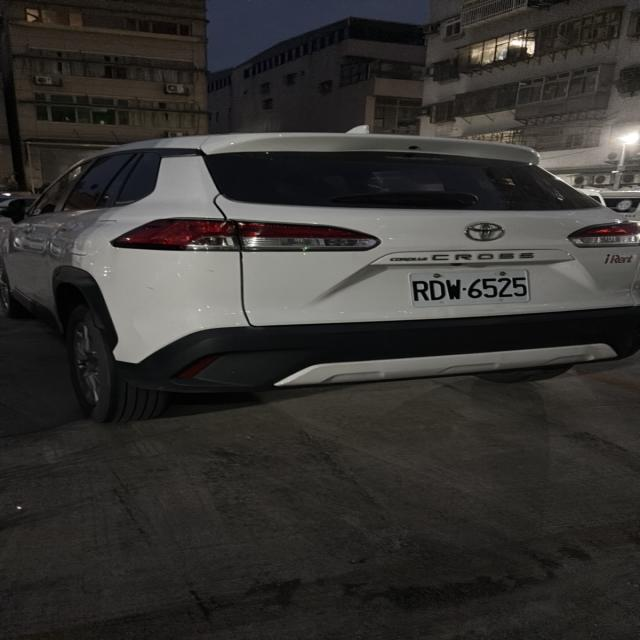license plate: (410, 270, 530, 306)
wheel: (65, 304, 166, 423)
